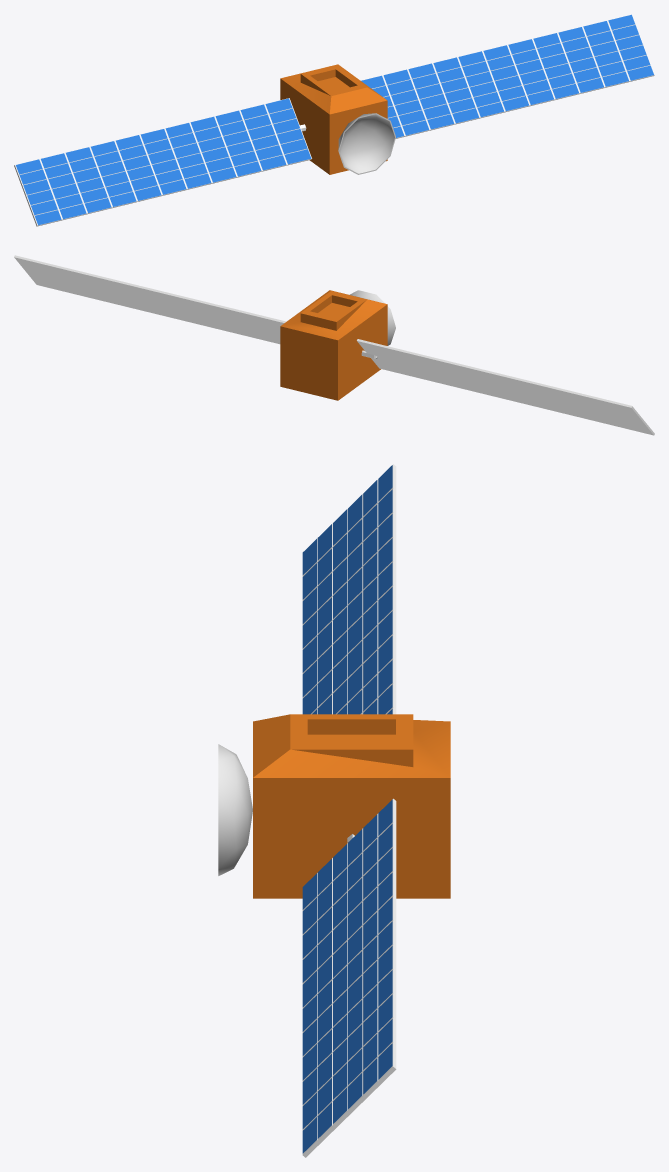
File: satellite.glb
3 views of the same model, one above another, from view 1: azimuth 30°, elevation 25°; view 2: azimuth 150°, elevation 25°; view 3: azimuth 270°, elevation 25° (orthographic). The views are drawn at different scales.
Visible parts, largest first — view 1: Satellite; view 2: Satellite; view 3: Satellite.
Boxes of the visible parts, x1,y1,x2,y2 form: Satellite: [14, 14, 654, 226]; Satellite: [14, 255, 654, 435]; Satellite: [218, 464, 450, 1157].
Bounding box in the file's own units: 2138 × 229 × 348.
